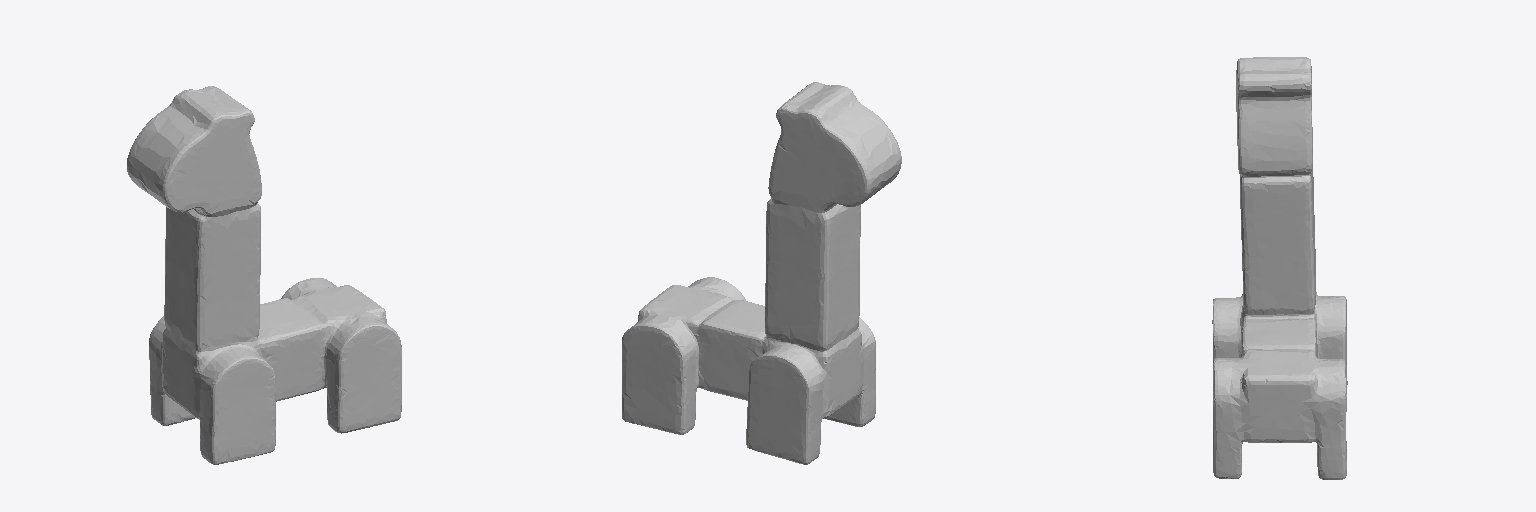
File: graff.obj
The picture shows the model from 3 angles: view 1: azimuth 30°, elevation 25°; view 2: azimuth 150°, elevation 25°; view 3: azimuth 270°, elevation 25°; orthographic projection.
Parts seen in each view (by area): view 1: Aset_other_toys_S_ujpheaova_LOD0; view 2: Aset_other_toys_S_ujpheaova_LOD0; view 3: Aset_other_toys_S_ujpheaova_LOD0.
Boxes of the visible parts, box(x1,y1,x2,y2) form: Aset_other_toys_S_ujpheaova_LOD0: box(127, 86, 401, 464); Aset_other_toys_S_ujpheaova_LOD0: box(622, 82, 901, 464); Aset_other_toys_S_ujpheaova_LOD0: box(1212, 57, 1347, 479).
Size of the model in its own units: 4.98 by 6.97 by 2.51.